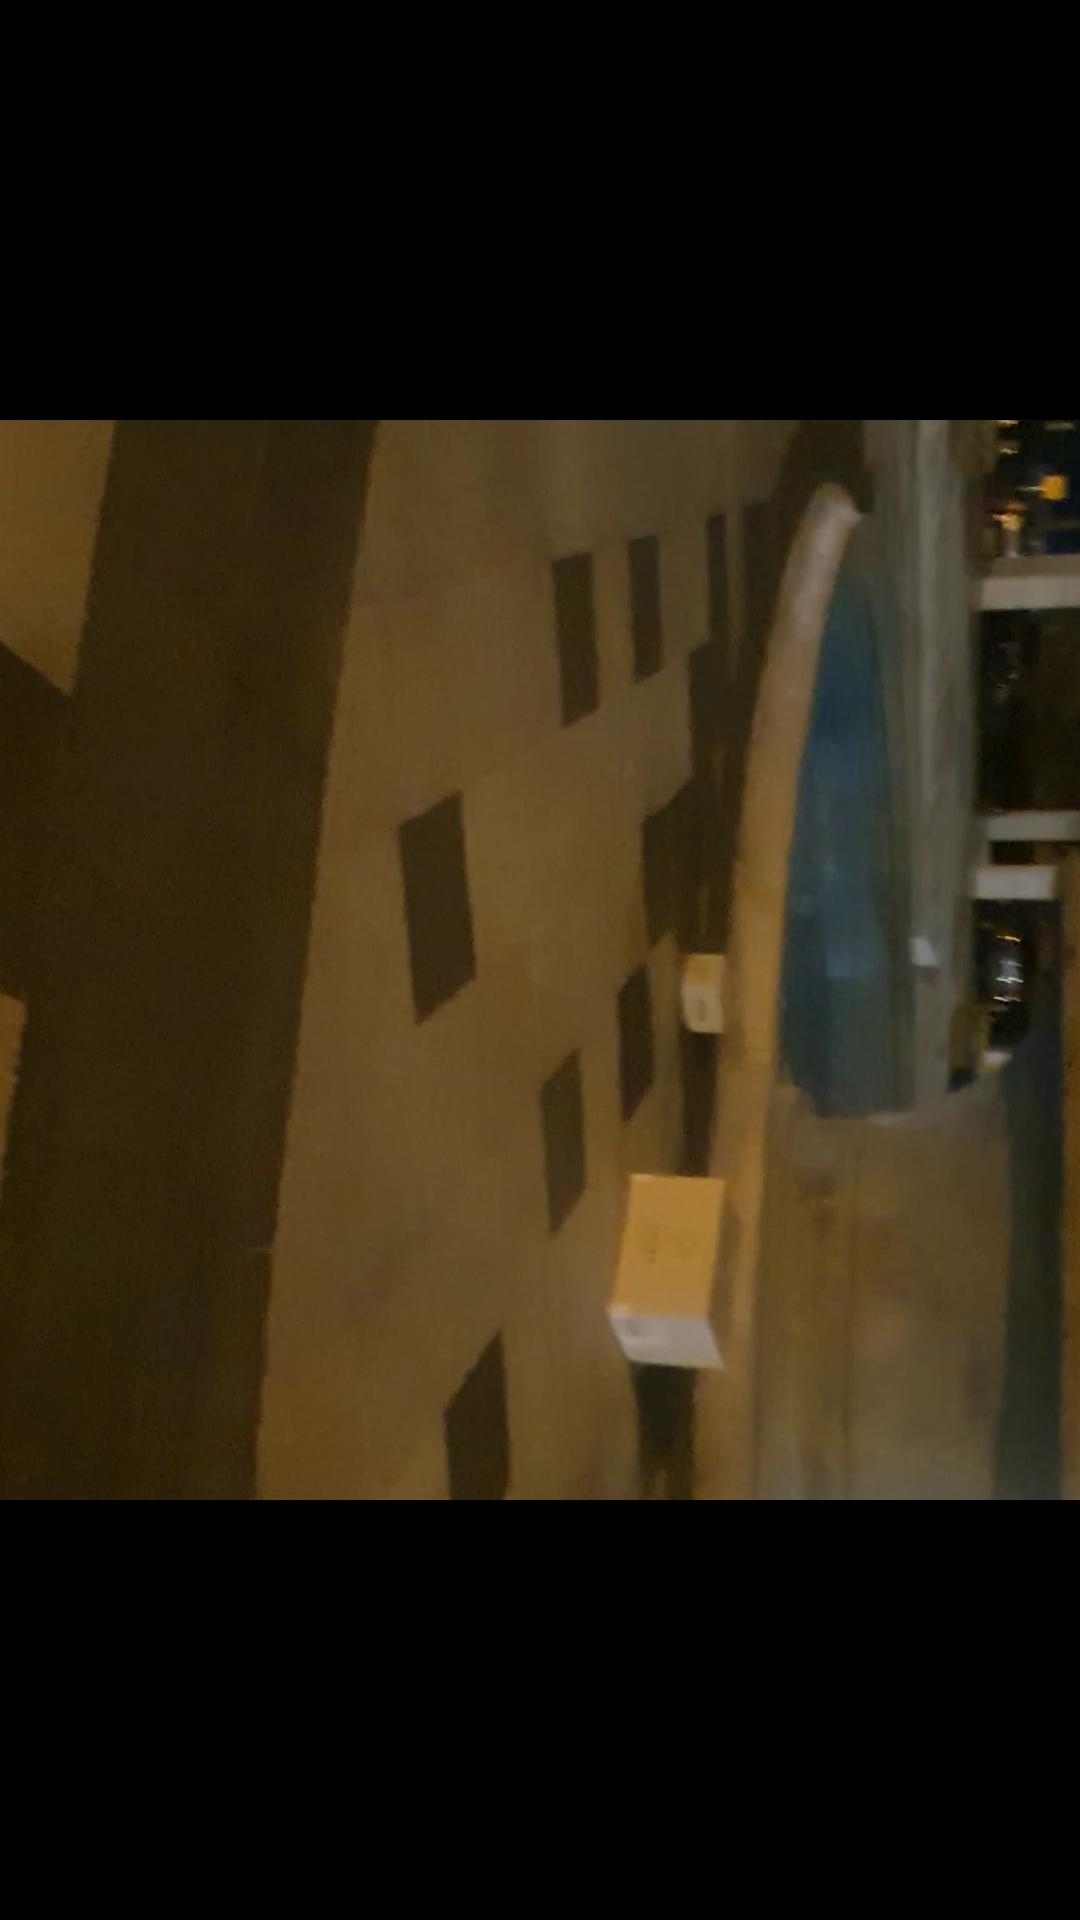Box: (603, 1166, 746, 1375), (670, 943, 746, 1042)
